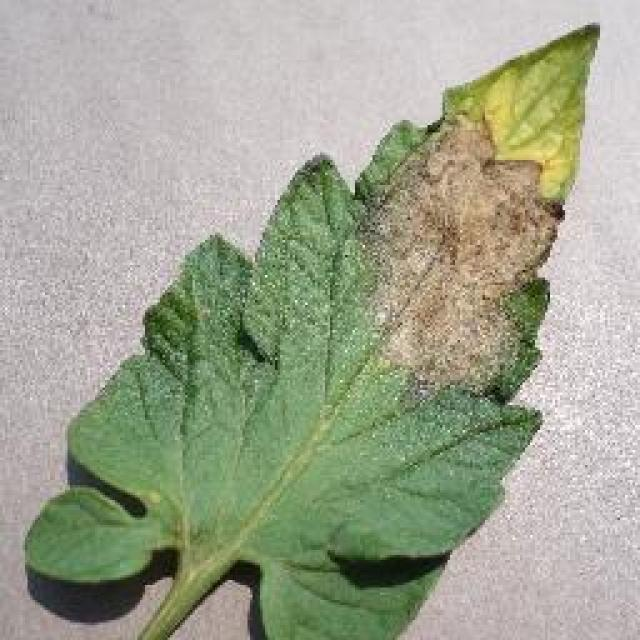Tomato Late Blight: (295, 120, 530, 403)
